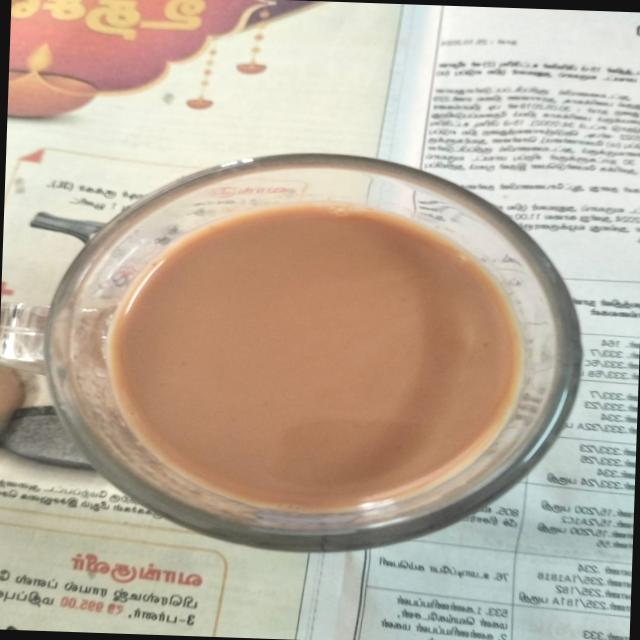glass-VX4N: (0, 141, 588, 560)
